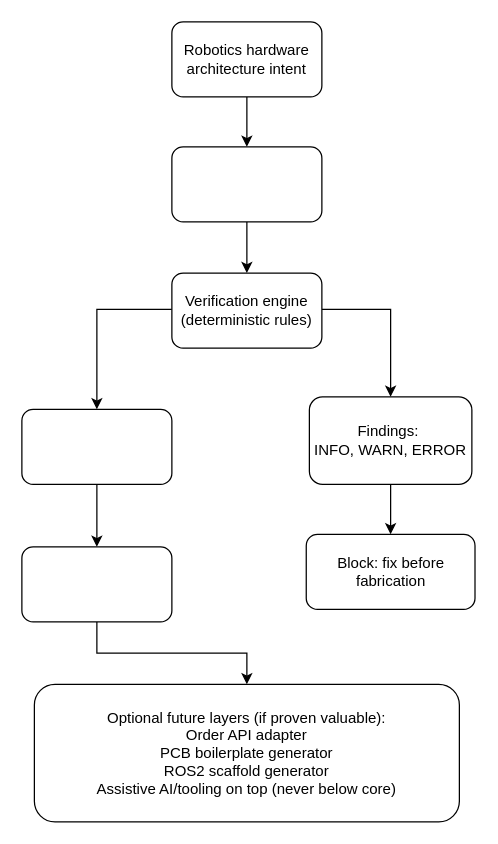
This 498x844 diagram has some shape labels left out. Each missing label, with the centre of its shape:
Clean: (x=96, y=446)
Hardware spec in YAML (machine checkable): (x=246, y=184)
Proceed to build: (x=96, y=584)
